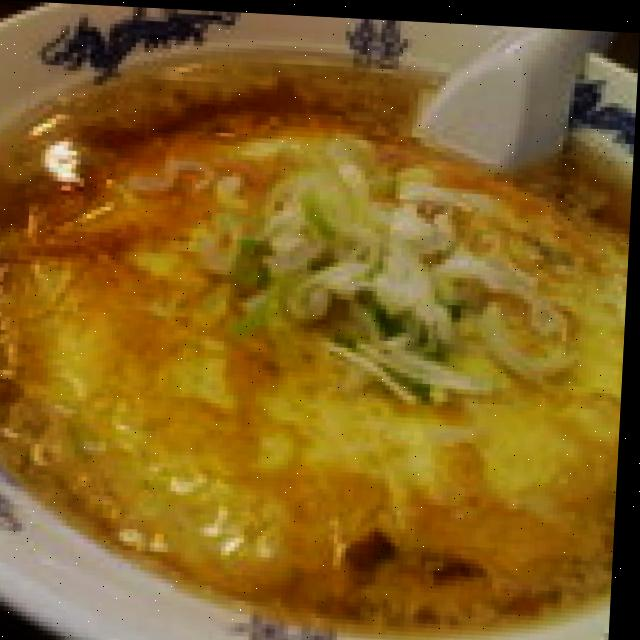面条主食: (0, 44, 638, 631)
